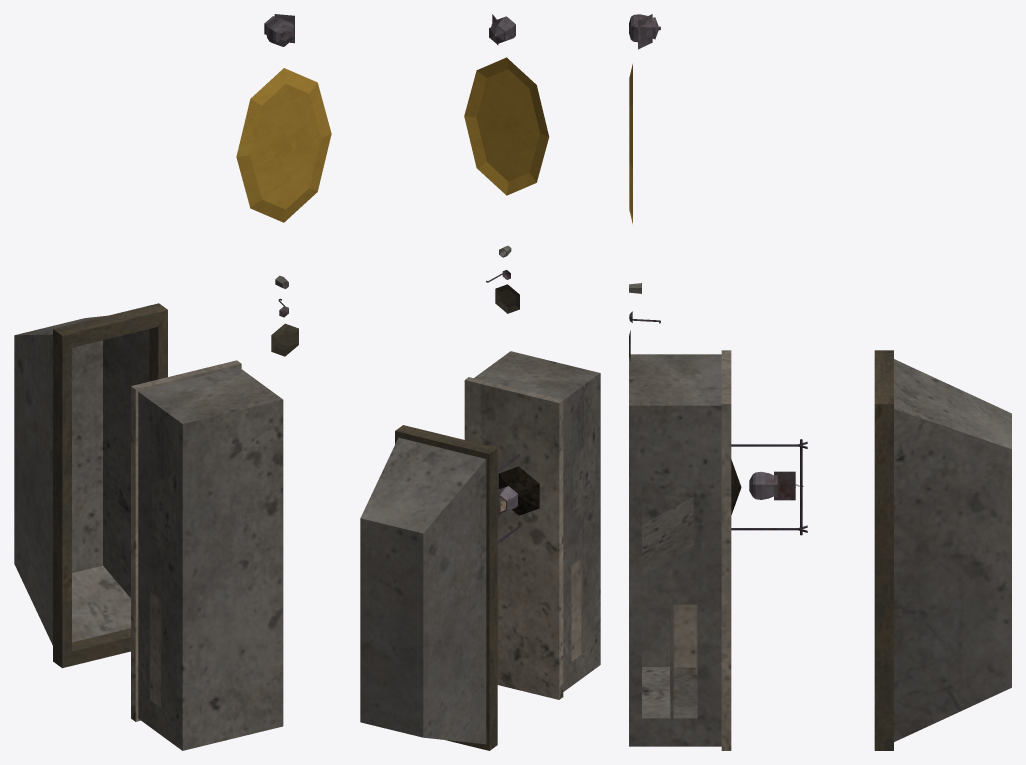
File: KitchenThings.fbx
3 views of the same model, side by side, from view 1: azimuth 30°, elevation 25°; view 2: azimuth 150°, elevation 25°; view 3: azimuth 270°, elevation 25° (orthographic). The views are drawn at different scales.
Parts seen in each view (by area): view 1: Stove, Large Platter, Kettel, Plate; view 2: Stove, Large Platter, Kettel, Plate; view 3: Stove, Kettel.
Part boxes in pixels (left/top/right/bottom): Stove: left=14, top=303, right=283, bottom=750; Large Platter: left=236, top=68, right=331, bottom=222; Kettel: left=264, top=14, right=294, bottom=46; Plate: left=271, top=323, right=298, bottom=356; Stove: left=360, top=351, right=600, bottom=750; Large Platter: left=464, top=57, right=549, bottom=195; Kettel: left=489, top=14, right=515, bottom=45; Plate: left=495, top=284, right=519, bottom=313; Stove: left=629, top=350, right=1011, bottom=750; Kettel: left=629, top=14, right=660, bottom=49.
Bounding box in the file's own units: 145 × 637 × 300.
